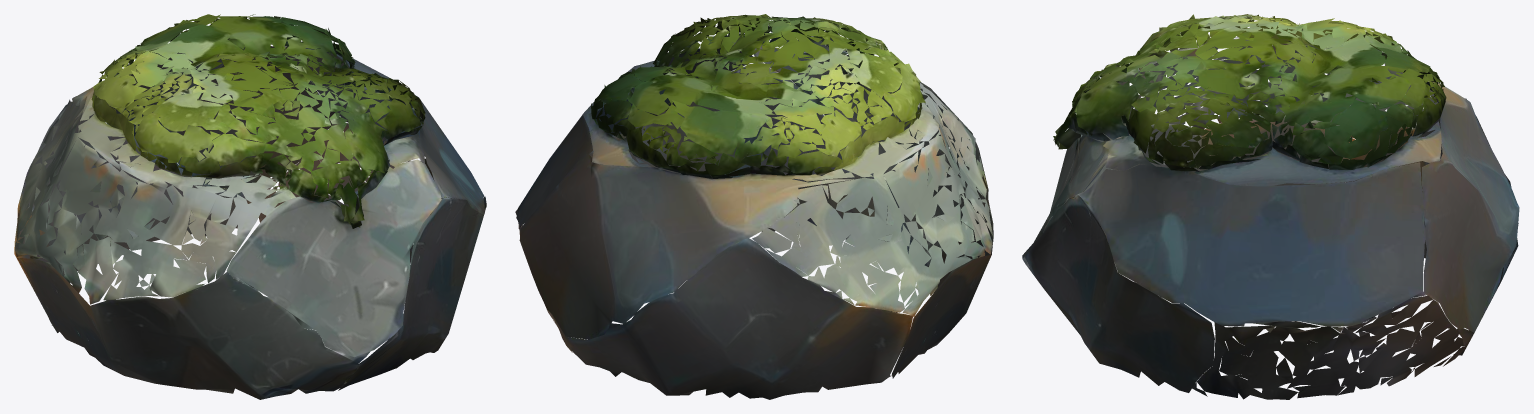
The model's file is rock_boulder.glb.
3 views of the same model, side by side, from view 1: azimuth 30°, elevation 25°; view 2: azimuth 150°, elevation 25°; view 3: azimuth 270°, elevation 25° (orthographic). The views are drawn at different scales.
Parts seen in each view (by area): view 1: rock_boulder; view 2: rock_boulder; view 3: rock_boulder.
Boxes of the visible parts, box(x1,y1,x2,y2) form: rock_boulder: box(14, 14, 486, 399); rock_boulder: box(515, 14, 993, 399); rock_boulder: box(1022, 14, 1519, 399).
Size of the model in its own units: 1.55 by 0.951 by 1.59.
1 material, 1 textured.
